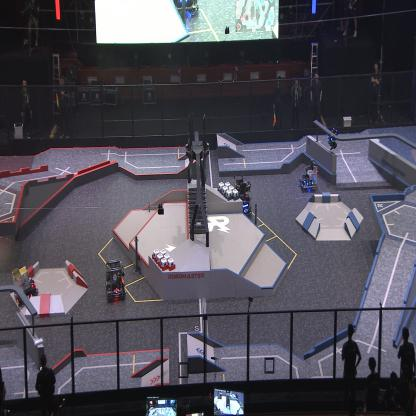car: (12, 264, 37, 308), (105, 259, 126, 300), (233, 178, 253, 220), (299, 158, 318, 192)
